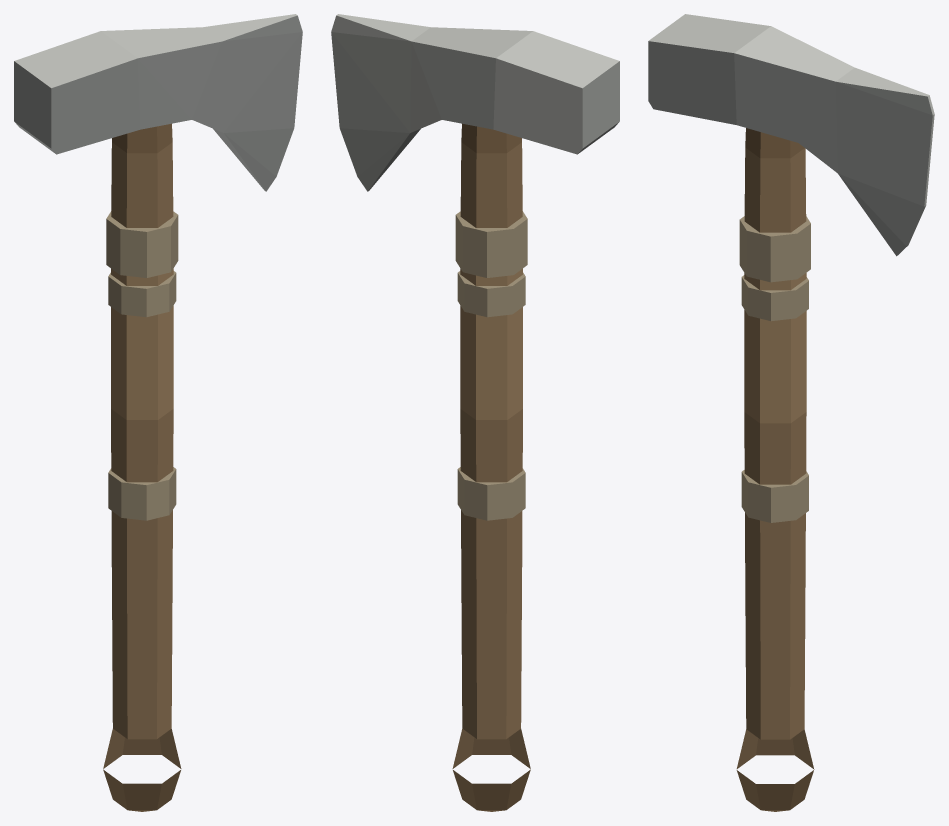
3 renders of one model, left to right at view 1: azimuth 30°, elevation 25°; view 2: azimuth 150°, elevation 25°; view 3: azimuth 330°, elevation 25°, orthographic.
Parts seen in each view (by area): view 1: wood_stone_hatchet; view 2: wood_stone_hatchet; view 3: wood_stone_hatchet.
Part boxes in pixels (bbox=[...]): wood_stone_hatchet: bbox=[14, 14, 302, 811]; wood_stone_hatchet: bbox=[331, 14, 619, 811]; wood_stone_hatchet: bbox=[648, 14, 934, 811].
Bounding box in the file's own units: 0.317 × 0.87 × 0.08.
